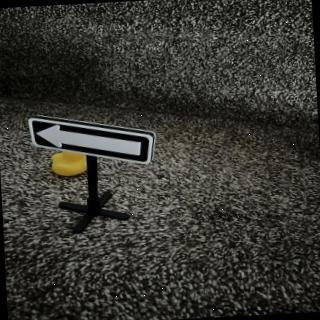duck_regular: (52, 150, 90, 179)
sign_oneway_left: (30, 111, 159, 172)
